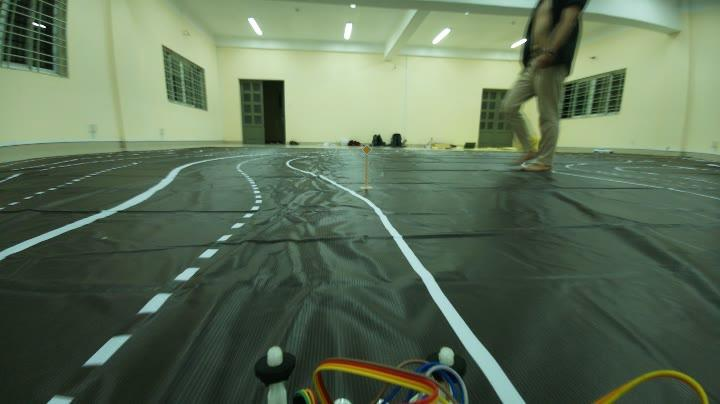priority: (360, 142, 375, 156)
